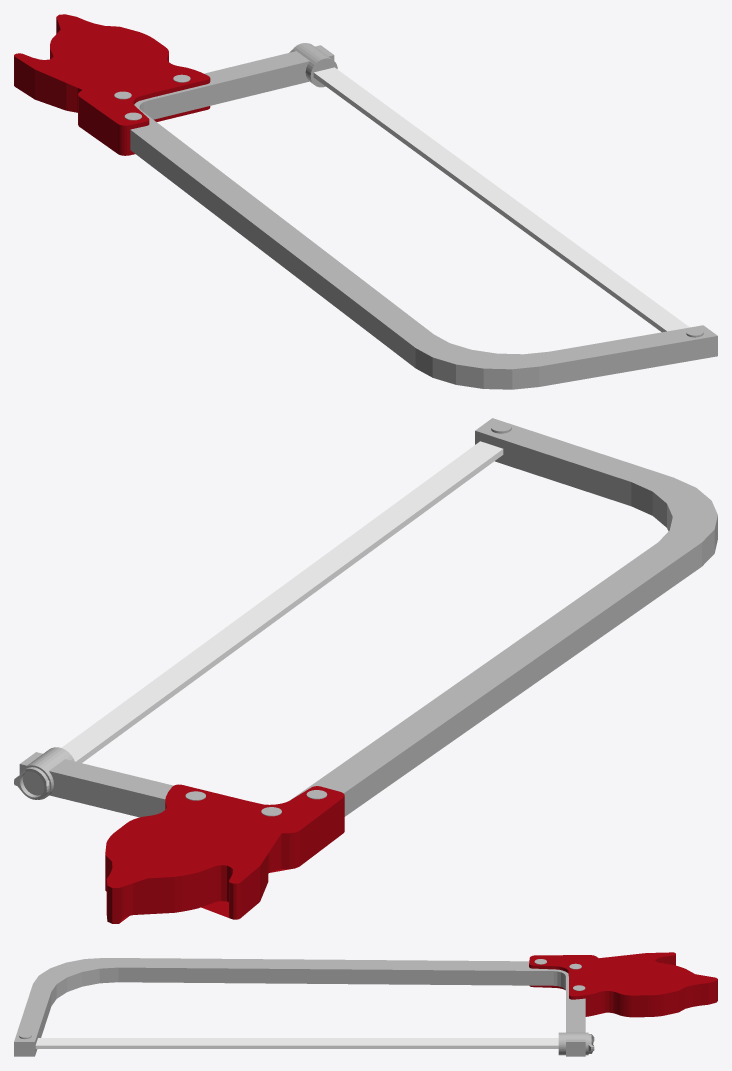
The model's file is Knift001.fbx.
The picture shows the model from 3 angles, top to bottom: view 1: azimuth 30°, elevation 25°; view 2: azimuth 150°, elevation 25°; view 3: azimuth 270°, elevation 25°; orthographic projection. The views are drawn at different scales.
Visible parts, largest first — view 1: Cube, Cube.003, Cube.002, Cylinder.001; view 2: Cube, Cube.003, Cube.002, Cylinder.001; view 3: Cube, Cube.003, Cube.002, Cylinder.001, Cylinder.002.
Boxes of the visible parts, <box> form: Cube: <box>130,45,717,389</box>; Cube.003: <box>14,14,210,155</box>; Cube.002: <box>313,67,689,332</box>; Cylinder.001: <box>289,43,337,87</box>; Cube: <box>19,418,717,817</box>; Cube.003: <box>105,784,344,923</box>; Cube.002: <box>61,441,503,762</box>; Cylinder.001: <box>14,747,74,799</box>; Cube: <box>14,958,585,1056</box>; Cube.003: <box>529,952,717,1017</box>; Cube.002: <box>35,1038,558,1048</box>; Cylinder.001: <box>558,1032,594,1055</box>; Cylinder.002: <box>534,959,585,990</box>.
Bounding box in the file's own units: 214 × 26.32 × 738.
